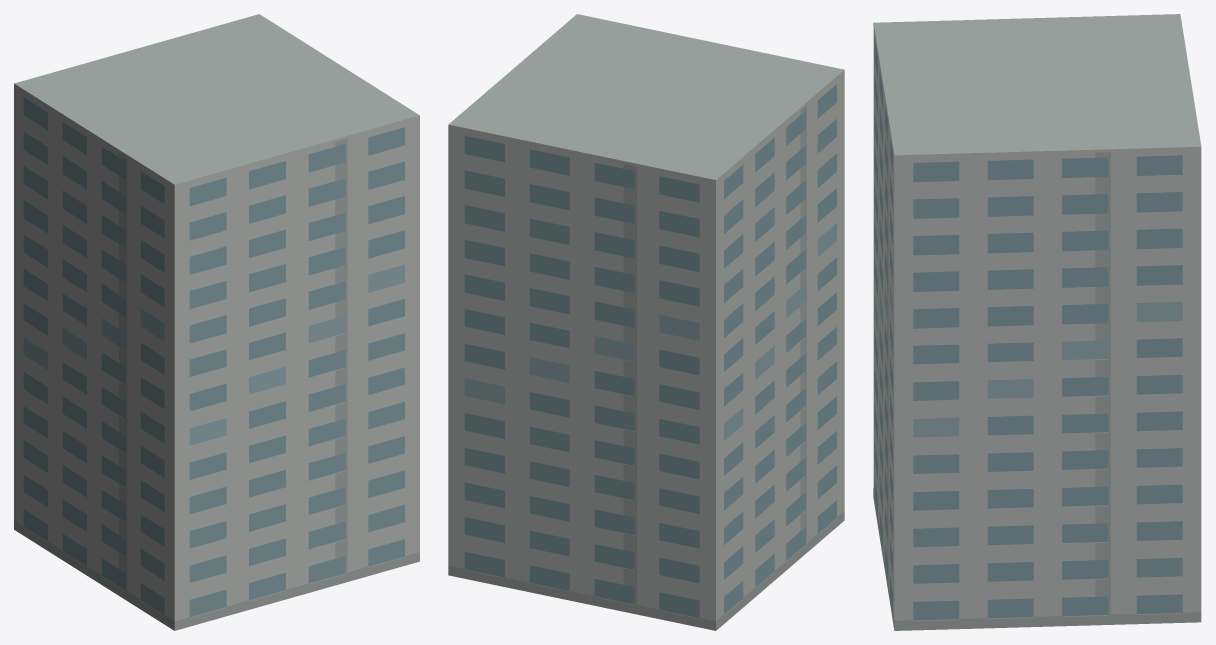
File: residential-d3838bbc-a7e3-48d2-97e5-7460c4453c86.glb
3 views of the same model, side by side, from view 1: azimuth 30°, elevation 25°; view 2: azimuth 150°, elevation 25°; view 3: azimuth 270°, elevation 25° (orthographic). The views are drawn at different scales.
Parts seen in each view (by area): view 1: residential-d3838bbc-a7e3-48d2-97e5-7460c4453c86.tmp; view 2: residential-d3838bbc-a7e3-48d2-97e5-7460c4453c86.tmp; view 3: residential-d3838bbc-a7e3-48d2-97e5-7460c4453c86.tmp.
Boxes of the visible parts, left/top/right/bottom form: residential-d3838bbc-a7e3-48d2-97e5-7460c4453c86.tmp: left=14, top=14, right=419, bottom=630; residential-d3838bbc-a7e3-48d2-97e5-7460c4453c86.tmp: left=448, top=14, right=844, bottom=630; residential-d3838bbc-a7e3-48d2-97e5-7460c4453c86.tmp: left=873, top=14, right=1201, bottom=630.
Bounding box in the file's own units: 25.5 × 40 × 25.
